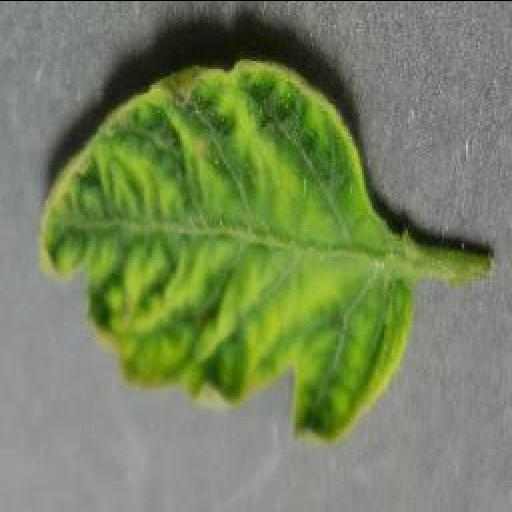disease_tomato: (38, 56, 410, 444)
